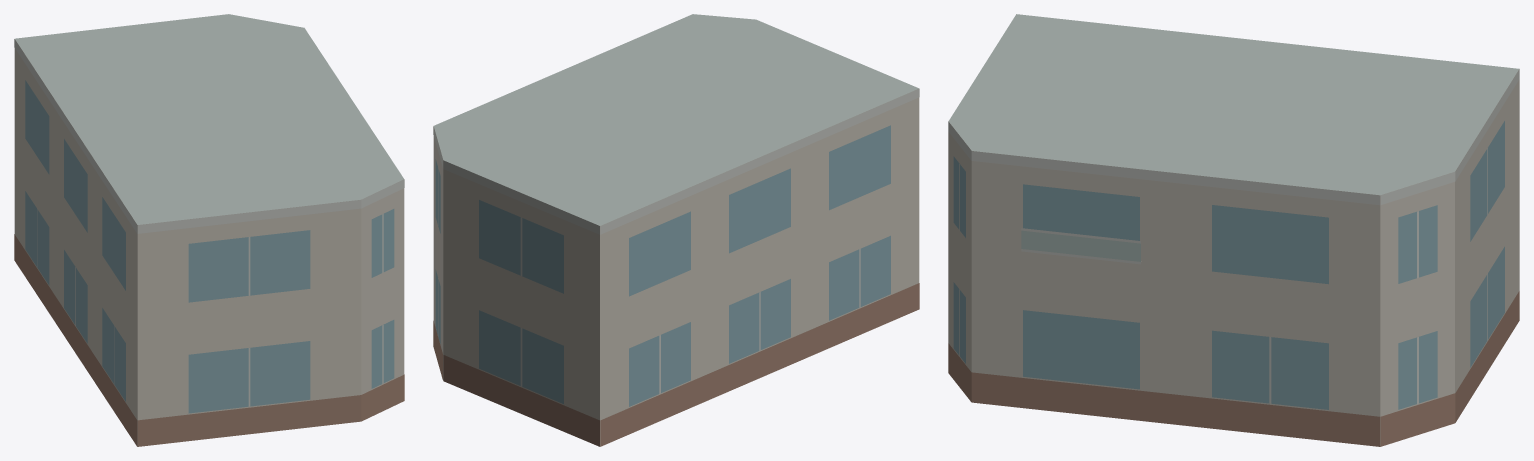
File: survey-upis-32718594.glb
3 views of the same model, side by side, from view 1: azimuth 30°, elevation 25°; view 2: azimuth 150°, elevation 25°; view 3: azimuth 270°, elevation 25° (orthographic). The views are drawn at different scales.
Parts seen in each view (by area): view 1: survey-upis-32718594.tmp; view 2: survey-upis-32718594.tmp; view 3: survey-upis-32718594.tmp.
Part boxes in pixels (x1,y1,x2,y2): survey-upis-32718594.tmp: [14, 14, 404, 446]; survey-upis-32718594.tmp: [433, 14, 919, 446]; survey-upis-32718594.tmp: [948, 14, 1519, 446].
Bounding box in the file's own units: 9.44 × 6.1 × 12.56.
